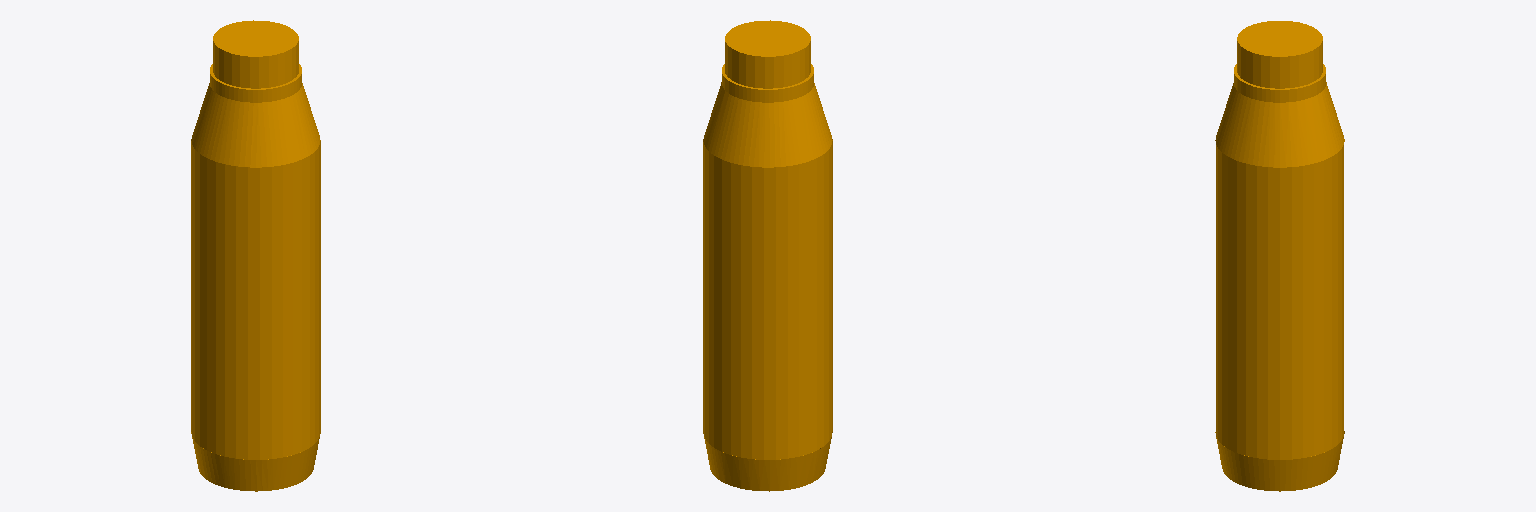
The robot description file, URDF, robot "bottle":
<?xml version="1.0" ?>
<robot name="bottle">
    <link name="base_link">
        <visual>
            <geometry>
                <mesh filename="bottle.stl" scale="0.001 0.001 0.001"/>
            </geometry>
        </visual>
        <collision>
            <geometry>
                <mesh filename="bottle.stl" scale="0.001 0.001 0.001"/>
            </geometry>
        </collision>
    </link>
</robot>

--- Render facts (derived) ---
The picture shows the robot from 3 angles, left to right: view 1: azimuth 30°, elevation 25°; view 2: azimuth 150°, elevation 25°; view 3: azimuth 270°, elevation 25°; orthographic projection.
Model bottle with 1 links and 0 joints (none), rooted at base_link, posed every joint at zero.
Links seen in each view (by area): view 1: base_link; view 2: base_link; view 3: base_link.
Link boxes in pixels (x1,y1,x2,y2): base_link: (191,20,320,491); base_link: (703,20,832,491); base_link: (1215,21,1344,491).
Bounding box of the posed robot: 0.0921 × 0.092 × 0.337 m (x, y, z).
Meshes: 1 distinct files referenced, 1 mesh visuals loaded (1 binary STL).